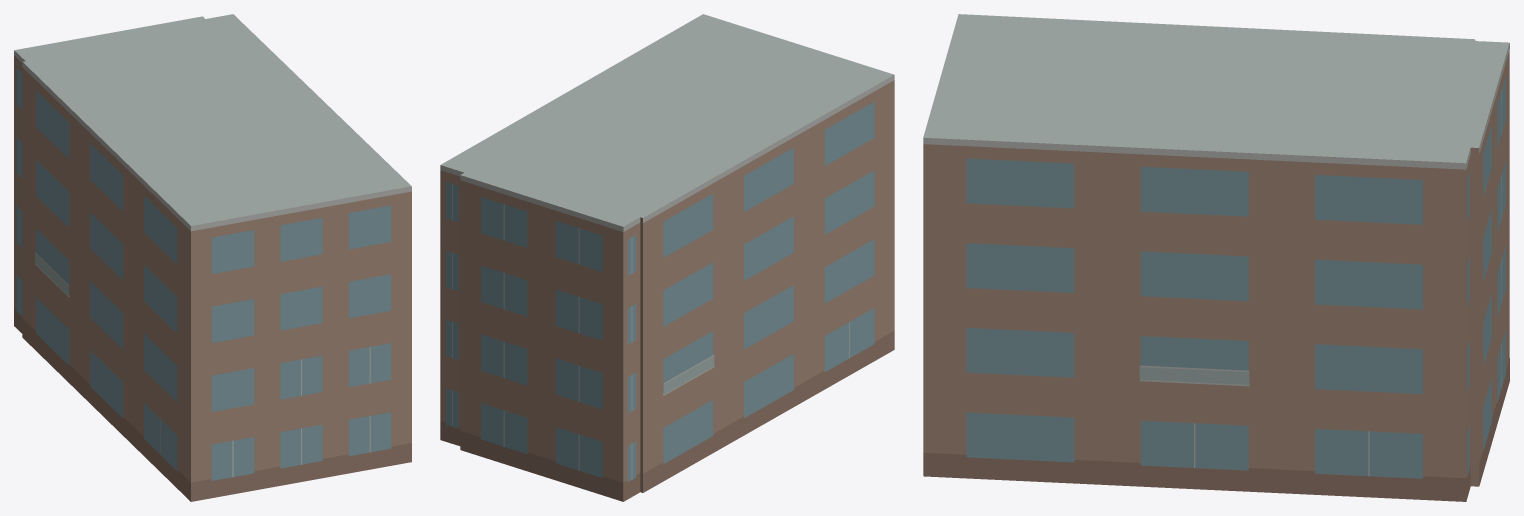
Rendered from survey-upis-32731858.glb.
The picture shows the model from 3 angles, left to right: view 1: azimuth 30°, elevation 25°; view 2: azimuth 150°, elevation 25°; view 3: azimuth 270°, elevation 25°; orthographic projection. The views are drawn at different scales.
Visible parts, largest first — view 1: survey-upis-32731858.tmp; view 2: survey-upis-32731858.tmp; view 3: survey-upis-32731858.tmp.
Part boxes in pixels (x1=…): survey-upis-32731858.tmp: x1=14, y1=14, x2=411, y2=501; survey-upis-32731858.tmp: x1=440, y1=14, x2=894, y2=501; survey-upis-32731858.tmp: x1=923, y1=14, x2=1509, y2=501.
Size of the model in its own units: 12.2 by 12.9 by 20.26.
